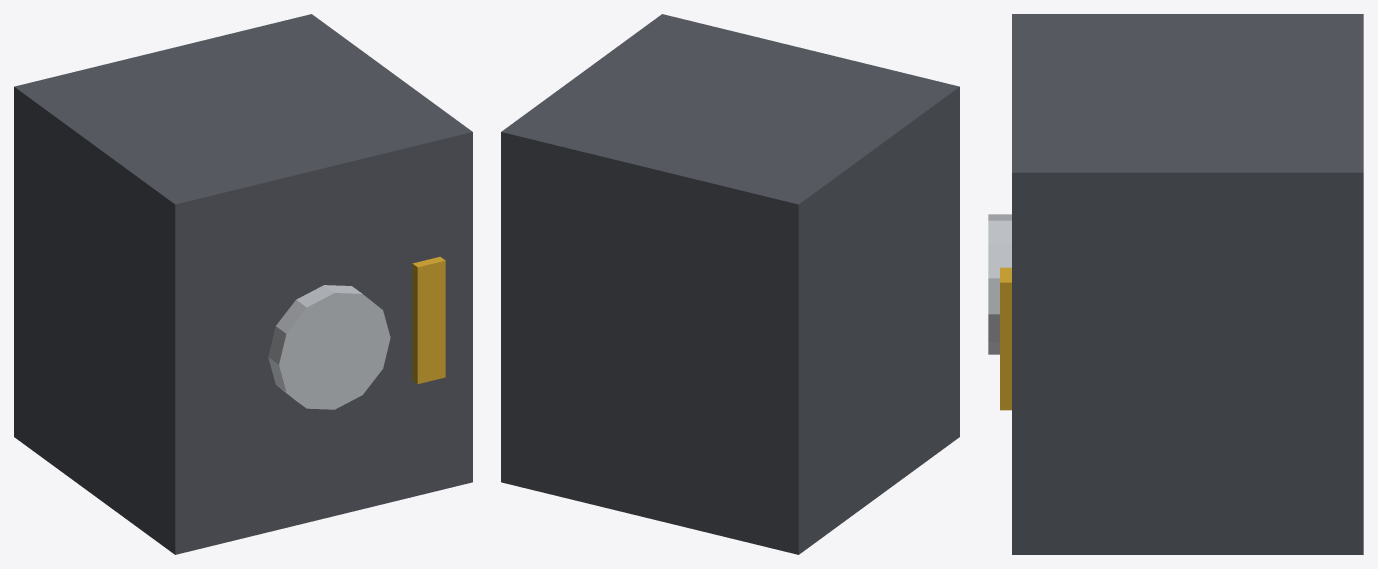
Rendered from safe.glb.
The picture shows the model from 3 angles, left to right: view 1: azimuth 30°, elevation 25°; view 2: azimuth 150°, elevation 25°; view 3: azimuth 270°, elevation 25°; orthographic projection. The views are drawn at different scales.
Visible parts, largest first — view 1: safe; view 2: safe; view 3: safe.
Boxes of the visible parts, box(x1,y1,x2,y2) form: safe: box(14, 14, 472, 554); safe: box(501, 14, 959, 554); safe: box(988, 14, 1363, 554).
Bounding box in the file's own units: 0.32 × 0.36 × 0.32.
